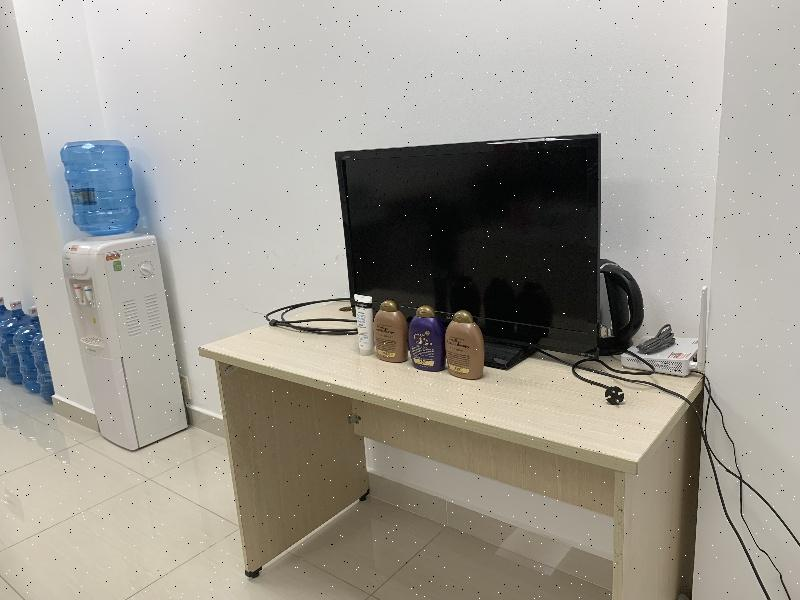BiotinCollagen_Shampoo: (409, 305, 444, 371)
BrazilianKeratinTherapy_Shampoo: (445, 310, 484, 379)
BrazilianKerationTherapy_Conditioner: (374, 300, 408, 363)
HydratingFoamingCleanser: (354, 294, 374, 356)
